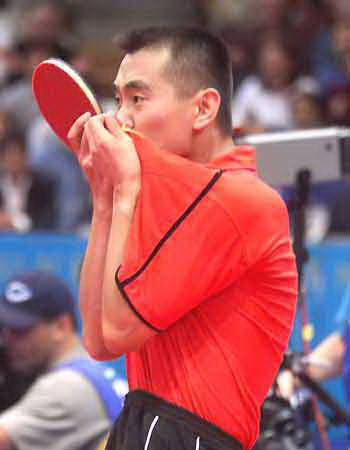face: (111, 48, 188, 174), (1, 303, 49, 373)
